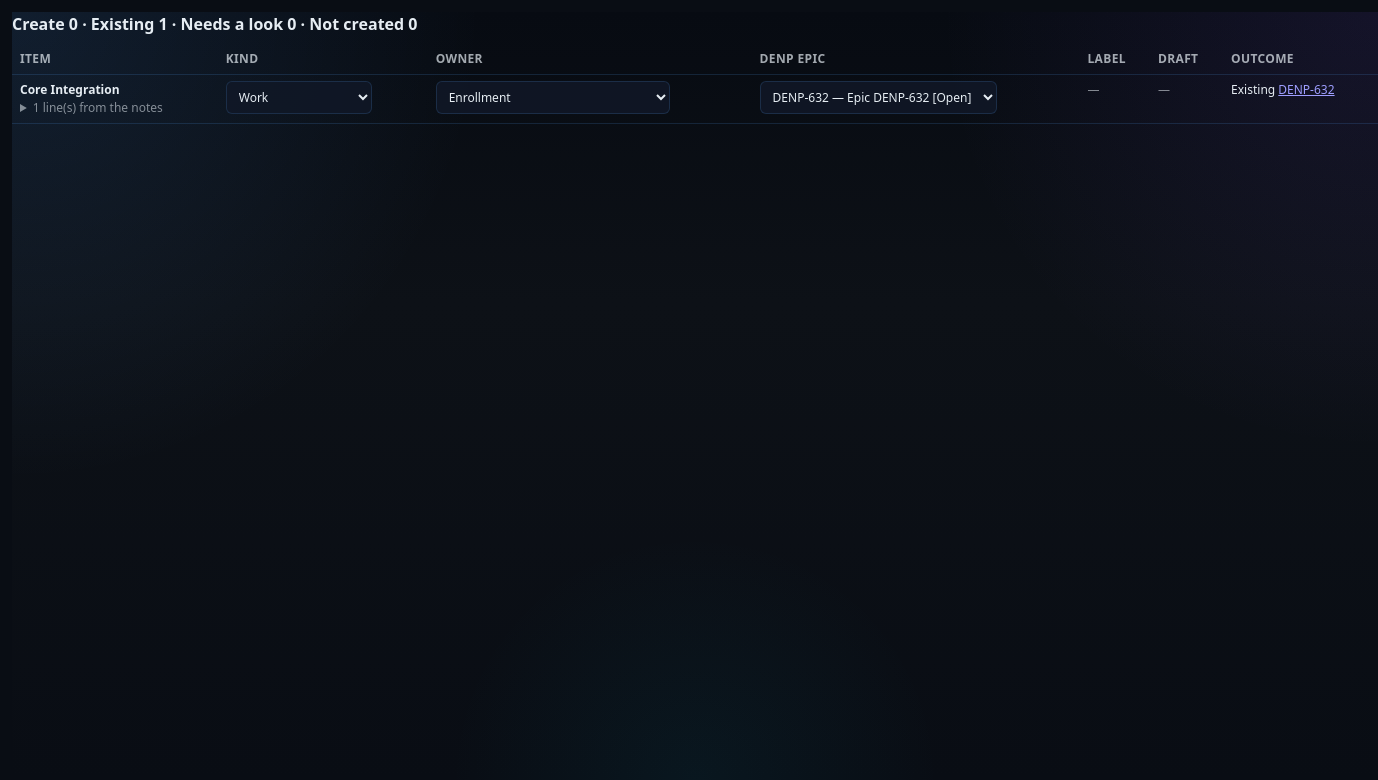
Test: IntakeReviewTable › saves a change as the PO's own and moves the row to its new bucket
Select "Create a new Epic" in the dropdown named "DENP Epic for \"Core Integration\"" at (878, 98), box [760,81,997,114]
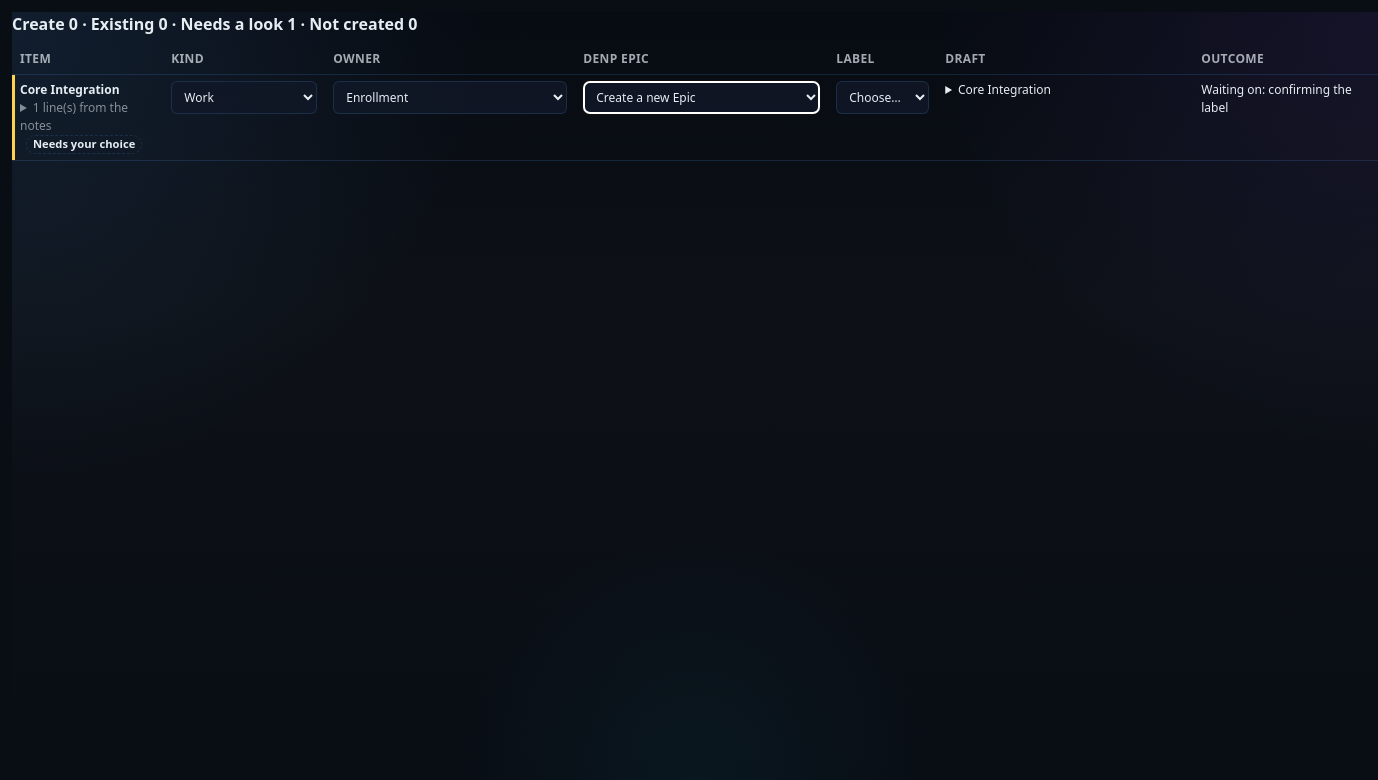
expect the dropdown named "Label for \"Core Integration\"" shows "Choose…": met, box [836,81,929,114]
expect the text "Needs your choice" is shown: met, box [26,135,142,154]
expect the text "Create 0 · Existing 0 · Needs a look 1 · Not created 0" is shown: met, box [12,13,418,35]
